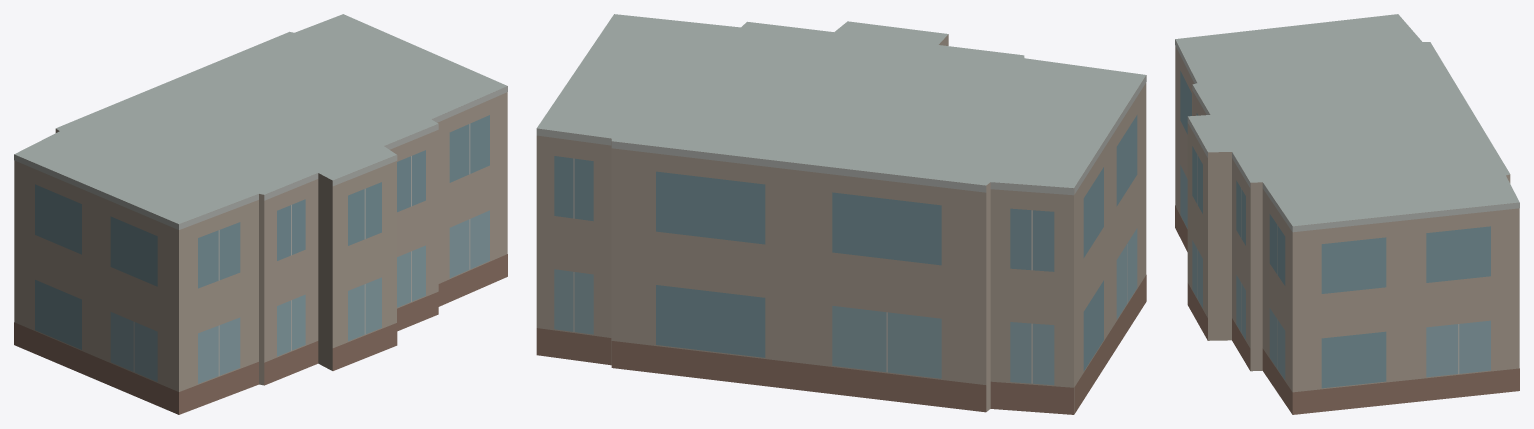
Rendered from survey-upis-33019543.glb.
The picture shows the model from 3 angles, left to right: view 1: azimuth 30°, elevation 25°; view 2: azimuth 150°, elevation 25°; view 3: azimuth 270°, elevation 25°; orthographic projection. The views are drawn at different scales.
Visible parts, largest first — view 1: survey-upis-33019543.tmp; view 2: survey-upis-33019543.tmp; view 3: survey-upis-33019543.tmp.
Boxes of the visible parts, bbox=[...] form: survey-upis-33019543.tmp: bbox=[14, 14, 507, 414]; survey-upis-33019543.tmp: bbox=[536, 14, 1146, 414]; survey-upis-33019543.tmp: bbox=[1175, 14, 1519, 414].
Bounding box in the file's own units: 18.86 × 7.8 × 12.94.
